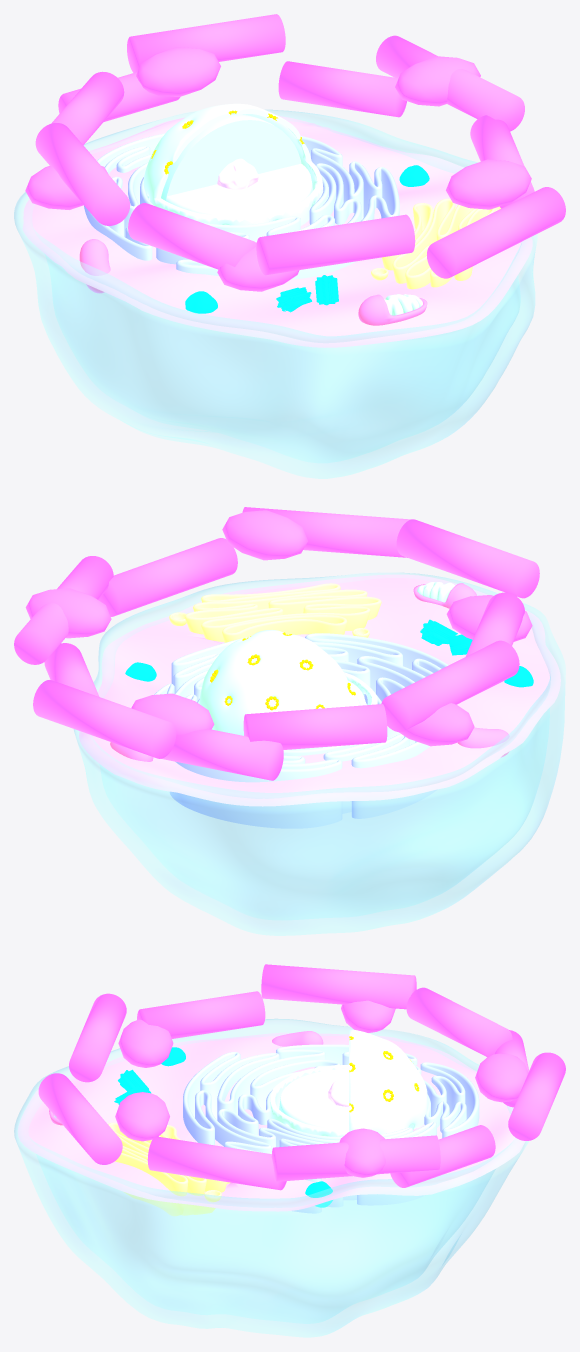
Rendered from heart-cellular.glb.
3 views of the same model, one above another, from view 1: azimuth 30°, elevation 25°; view 2: azimuth 150°, elevation 25°; view 3: azimuth 270°, elevation 25° (orthographic). The views are drawn at different scales.
Parts seen in each view (by area): view 1: Sphere_0, Sphere.001_0, BezierCurve_0, Roundcube_0, AmyloidFibril_7, Icosphere_0, AmyloidFibril_6, AmyloidFibril_4, AmyloidFibril_8, AmyloidFibril_3, AmyloidFibril_2, AmyloidFibril_0 (+13 smaller); view 2: Sphere_0, Sphere.001_0, BezierCurve_0, Icosphere_0, BezierCurve.002_0, AmyloidFibril_4, AmyloidFibril_7, AmyloidFibril_2, AmyloidFibril_1, AmyloidFibril_9, AmyloidFibril_6, AmyloidFibril_5 (+11 smaller); view 3: Sphere_0, Sphere.001_0, BezierCurve_0, Icosphere_0, AmyloidFibril_2, AmyloidFibril_0, AmyloidFibril_1, AmyloidFibril_3, AmyloidFibril_6, AmyloidFibril_9, BezierCurve.002_0, Roundcube_0 (+12 smaller).
Boxes of the visible parts, left/top/right/bottom form: Sphere_0: left=14, top=110, right=537, bottom=478; Sphere.001_0: left=22, top=116, right=532, bottom=347; BezierCurve_0: left=84, top=133, right=399, bottom=279; Roundcube_0: left=161, top=114, right=313, bottom=215; AmyloidFibril_7: left=256, top=214, right=415, bottom=275; Icosphere_0: left=143, top=103, right=323, bottom=225; AmyloidFibril_6: left=427, top=187, right=565, bottom=278; AmyloidFibril_4: left=127, top=14, right=285, bottom=72; AmyloidFibril_8: left=278, top=61, right=406, bottom=117; AmyloidFibril_3: left=128, top=203, right=256, bottom=269; AmyloidFibril_2: left=35, top=123, right=130, bottom=225; AmyloidFibril_0: left=376, top=35, right=524, bottom=131; Sphere_0: left=74, top=573, right=565, bottom=935; Sphere.001_0: left=79, top=574, right=560, bottom=806; BezierCurve_0: left=154, top=633, right=448, bottom=828; Icosphere_0: left=199, top=629, right=377, bottom=735; BezierCurve.002_0: left=169, top=583, right=381, bottom=642; AmyloidFibril_4: left=33, top=680, right=176, bottom=758; AmyloidFibril_7: left=396, top=519, right=539, bottom=598; AmyloidFibril_2: left=381, top=640, right=519, bottom=732; AmyloidFibril_1: left=98, top=538, right=237, bottom=616; AmyloidFibril_9: left=243, top=704, right=387, bottom=749; AmyloidFibril_6: left=242, top=507, right=410, bottom=557; AmyloidFibril_5: left=161, top=728, right=283, bottom=780; Sphere_0: left=14, top=1019, right=528, bottom=1337; Sphere.001_0: left=17, top=1032, right=525, bottom=1211; BezierCurve_0: left=183, top=1044, right=479, bottom=1213; Icosphere_0: left=270, top=1029, right=427, bottom=1136; AmyloidFibril_2: left=261, top=964, right=416, bottom=1009; AmyloidFibril_0: left=271, top=1135, right=440, bottom=1181; AmyloidFibril_1: left=147, top=1136, right=286, bottom=1190; AmyloidFibril_3: left=137, top=991, right=265, bottom=1038; AmyloidFibril_6: left=38, top=1073, right=122, bottom=1164; AmyloidFibril_9: left=406, top=987, right=512, bottom=1057; BezierCurve.002_0: left=108, top=1122, right=230, bottom=1216; Roundcube_0: left=279, top=1040, right=416, bottom=1130.
Size of the model in its own units: 2.72 by 1.7 by 3.2.
